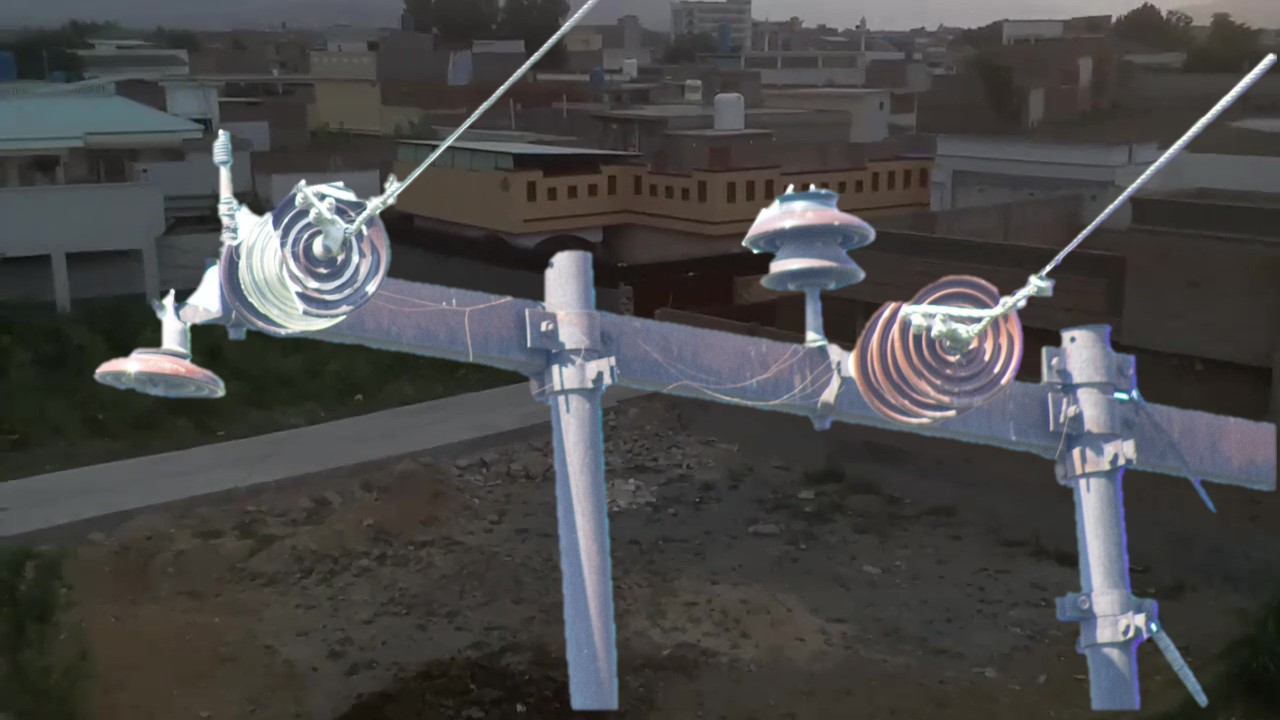defect_disc: (241, 180, 398, 333)
insulator_disc: (881, 265, 1033, 411), (82, 330, 231, 422)
